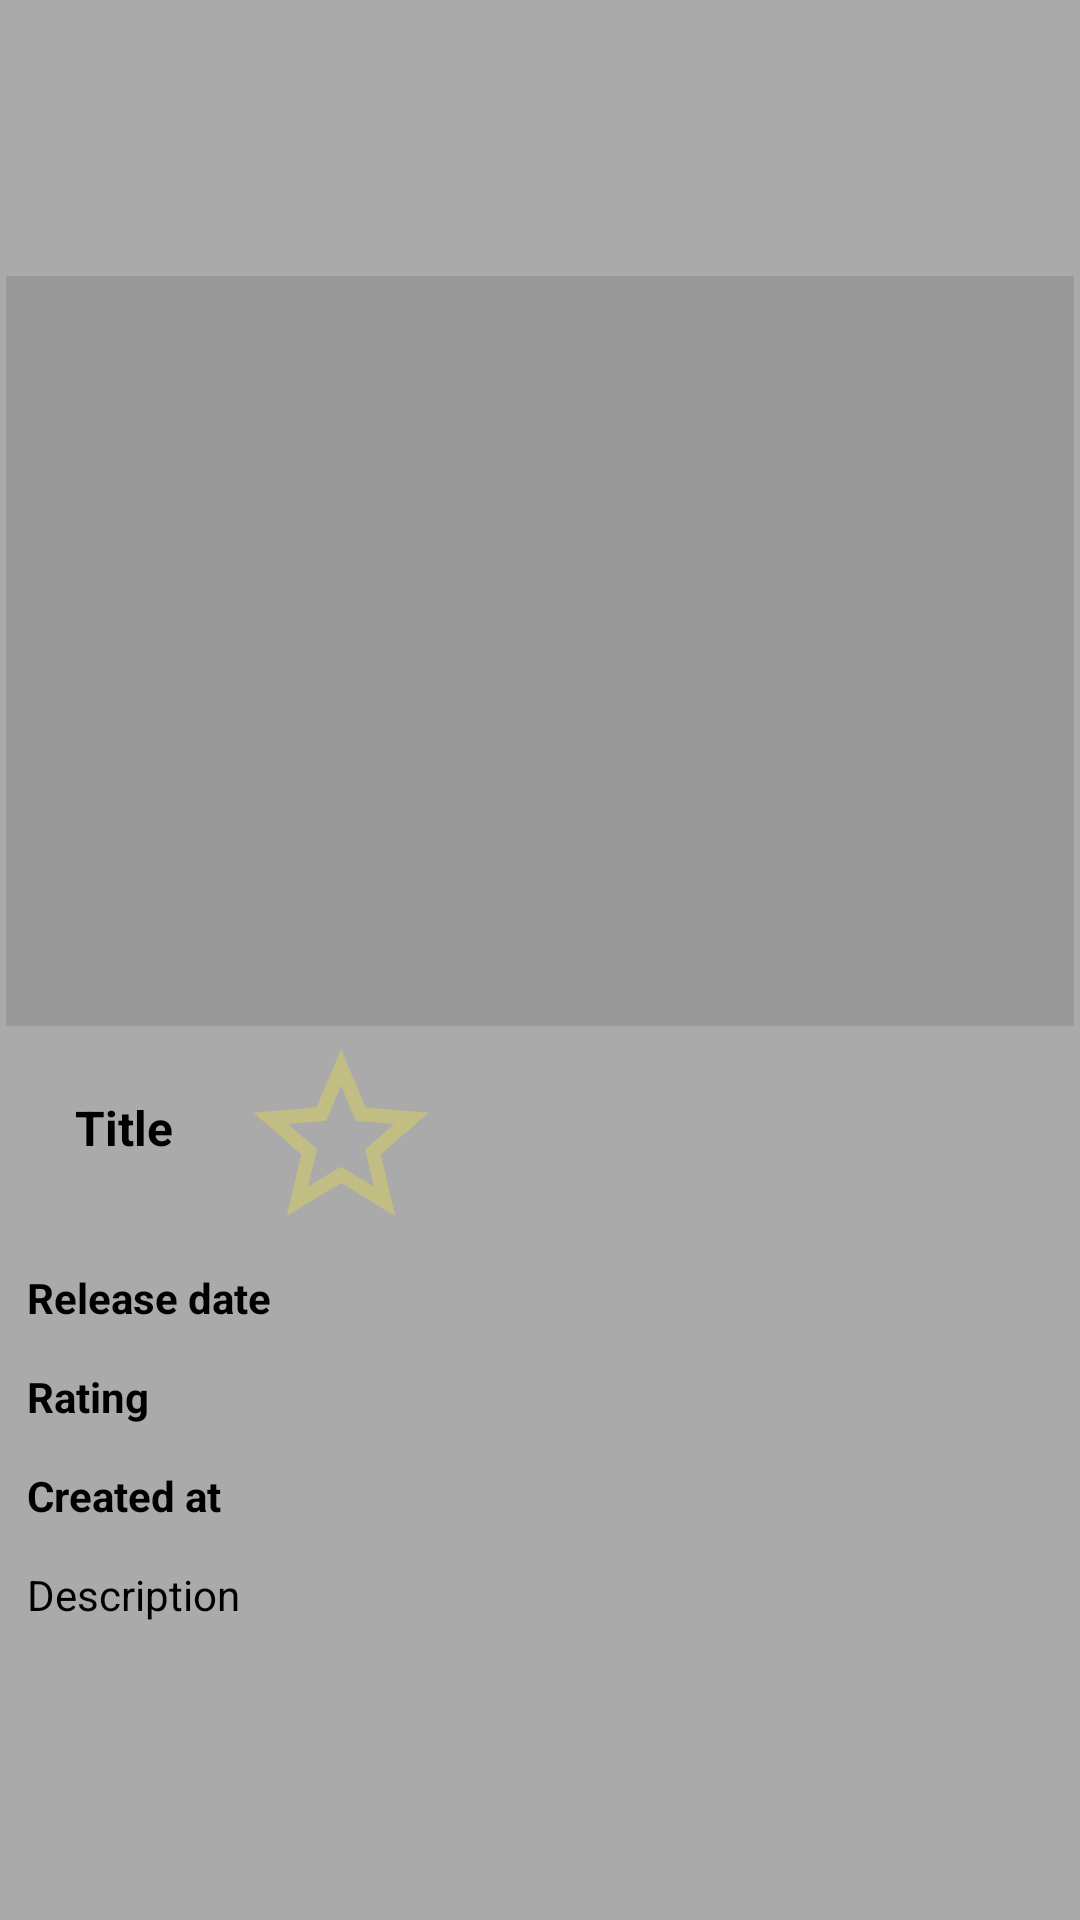

Locate icon controls on the screen. Image size 1080w x 1920h, boxes as (x1,y1,x2,y2).
Favourite: (255,1051,428,1215)
